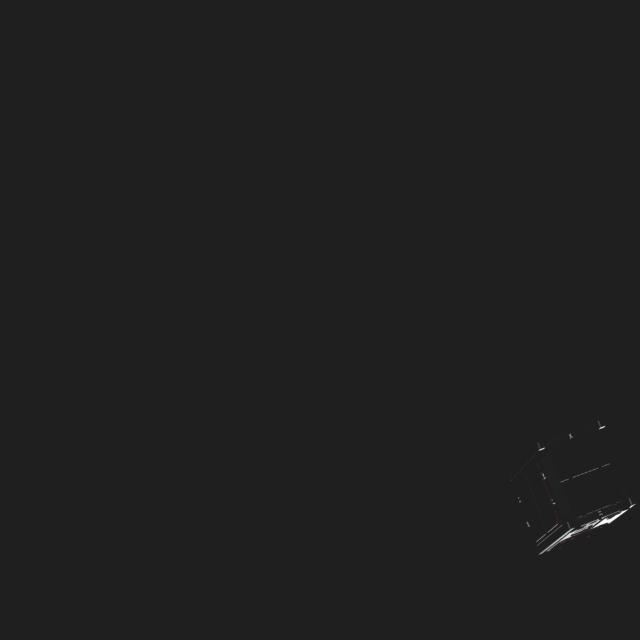satellite: (500, 412, 640, 554)
